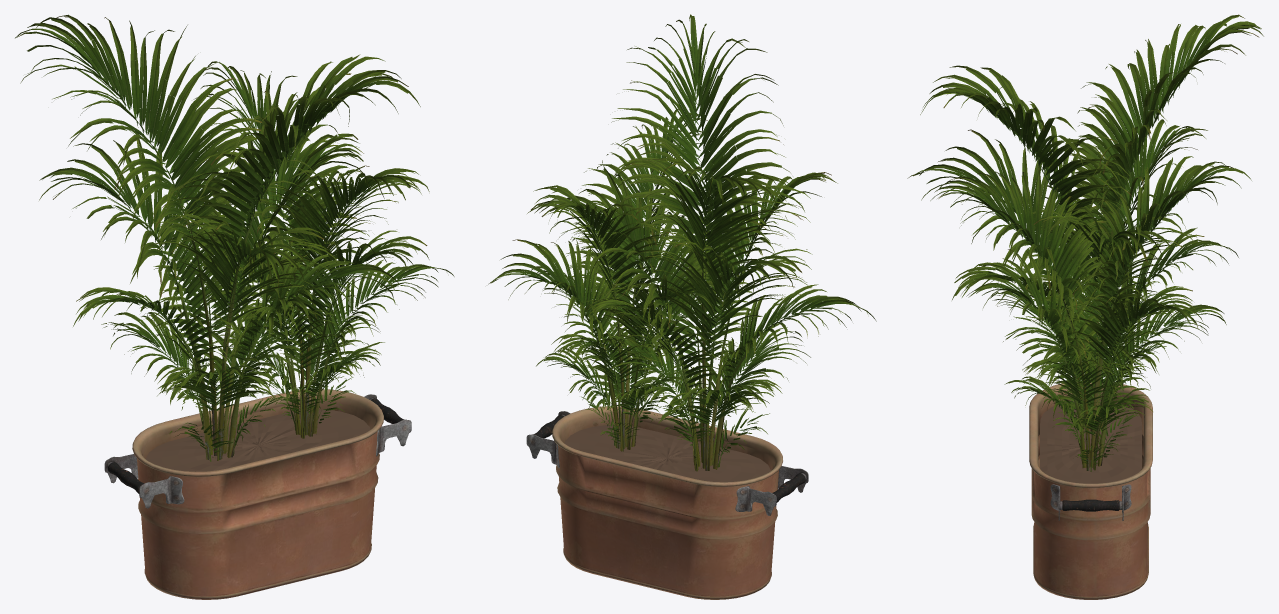
File: palm-b.glb
The picture shows the model from 3 angles, left to right: view 1: azimuth 30°, elevation 25°; view 2: azimuth 150°, elevation 25°; view 3: azimuth 270°, elevation 25°; orthographic projection. The views are drawn at different scales.
Visible parts, largest first — view 1: palm, planter, palm-b; view 2: palm, planter, palm-b; view 3: palm, palm-b, planter.
Part boxes in pixels (x1,y1,x2,y2): palm: (15,14,420,461); planter: (104,389,411,599); palm-b: (157,61,454,438); palm: (531,14,876,471); planter: (526,406,808,599); palm-b: (488,109,741,451); palm: (907,14,1263,431); palm-b: (930,156,1251,471); planter: (1029,382,1152,599).
Bounding box in the file's own units: 1.4 × 1.85 × 1.24.
3 materials, 2 textured.
